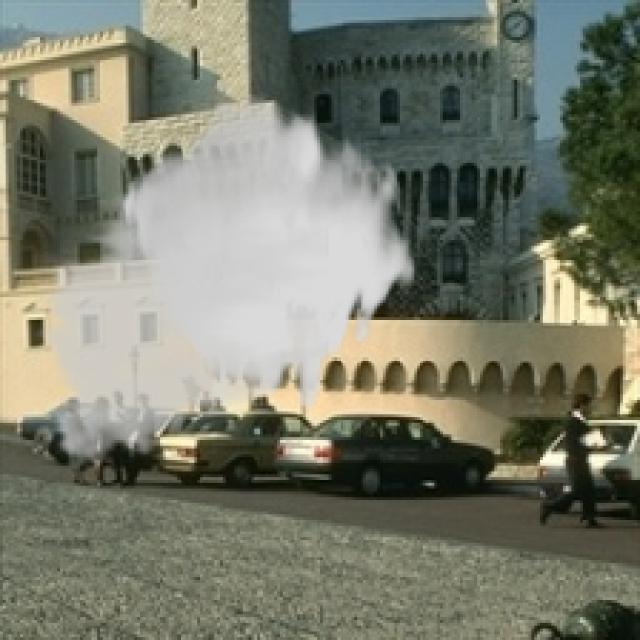smoke: (32, 94, 417, 480)
